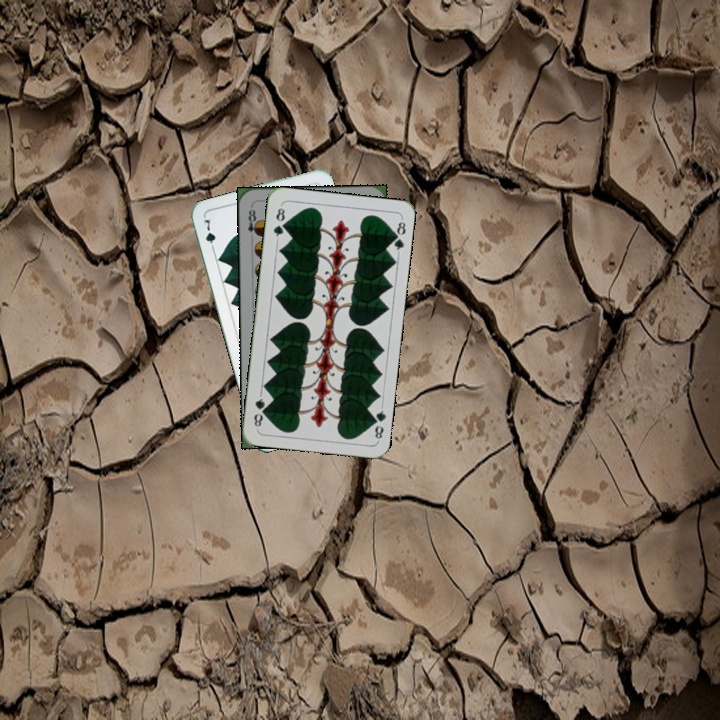E8: (244, 203, 261, 243)
G7: (200, 215, 218, 255)
G8: (367, 402, 388, 441), (269, 202, 288, 242)
